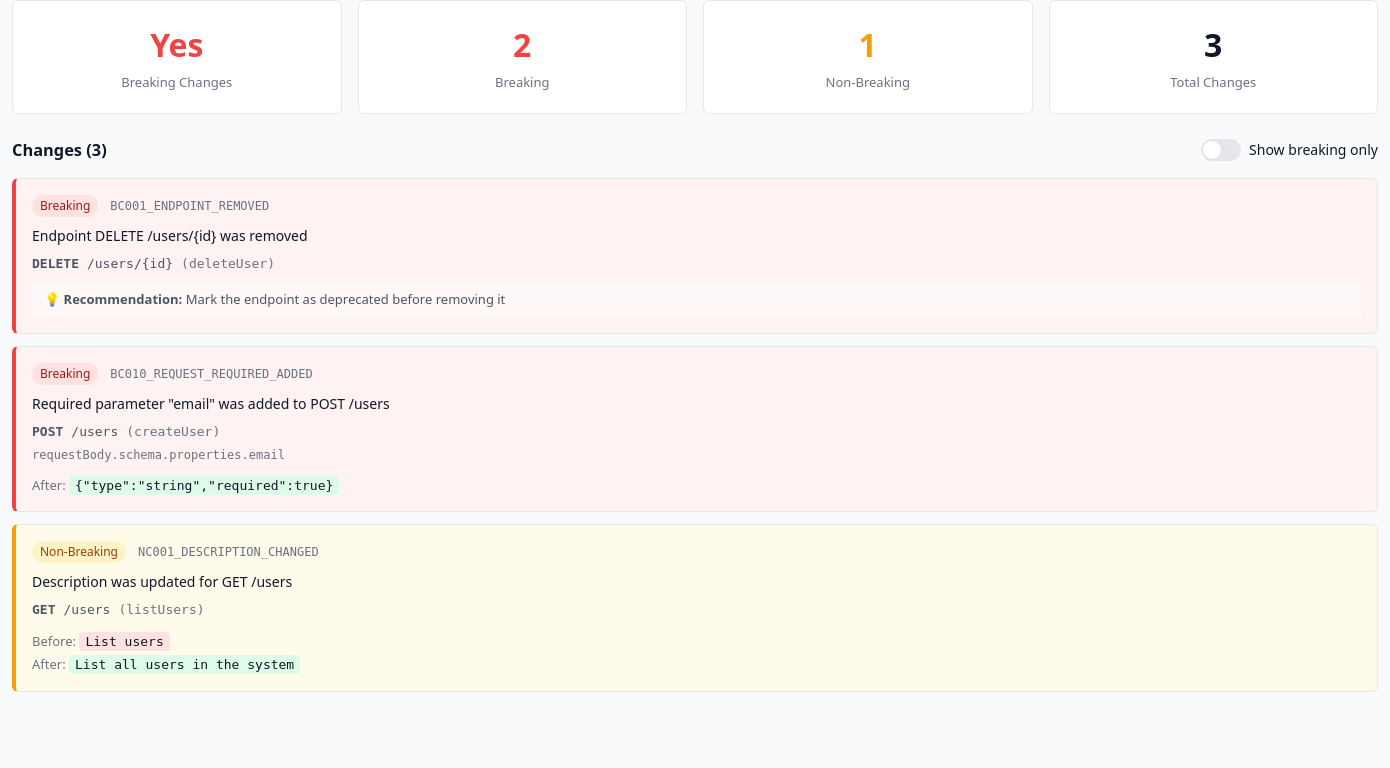
Test: DiffReportViewer › should filter to breaking only when toggle is checked
Step 1. Click the checkbox → x=1221, y=150, box x1=1201 y1=139 x2=1241 y2=161
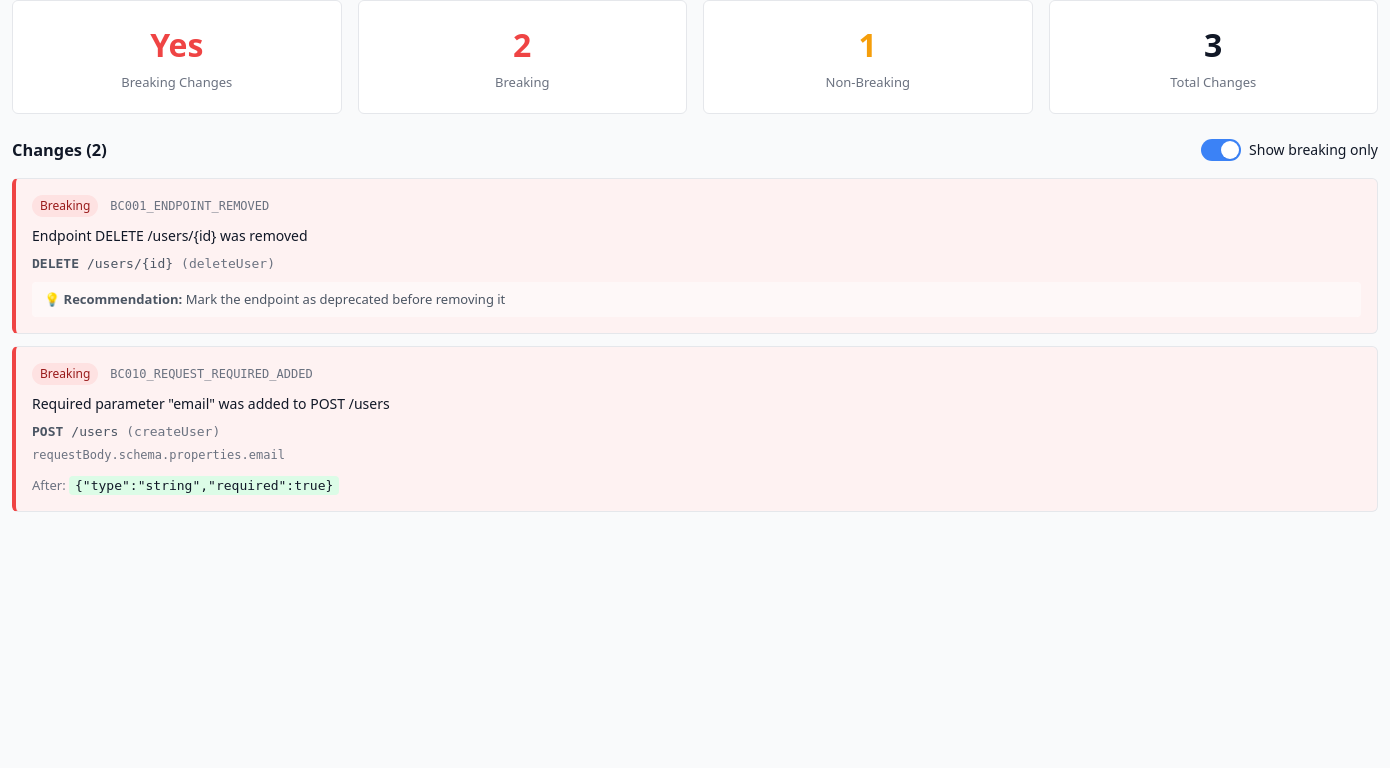
Check: the text "Endpoint DELETE /users/{id} was removed" is shown, box x1=32 y1=226 x2=308 y2=245
Check: the text "Description was updated for GET /users" is gone
